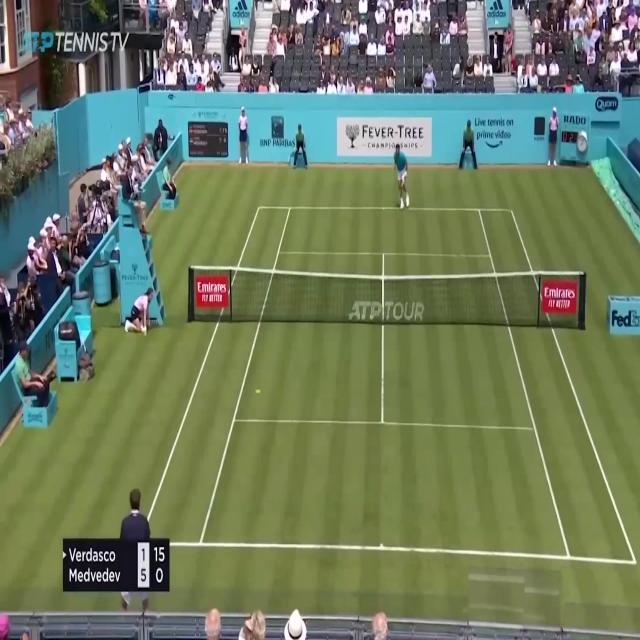bottom-dead-zone: (200, 421, 569, 556)
court: (139, 206, 635, 560)
left-doubles-alley: (139, 206, 291, 544)
left-service-box: (234, 253, 384, 424)
net: (185, 265, 587, 333)
right-doubles-alley: (478, 210, 635, 563)
right-service-box: (382, 252, 535, 427)
top-dead-zone: (278, 208, 490, 256)
